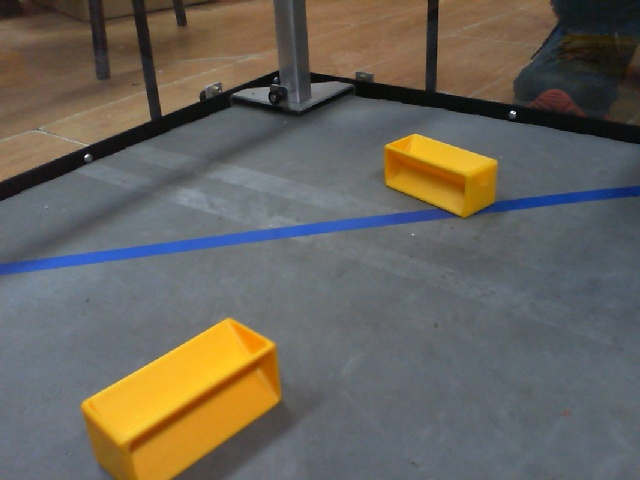YellowSample: (78, 312, 285, 480), (378, 127, 503, 230)
